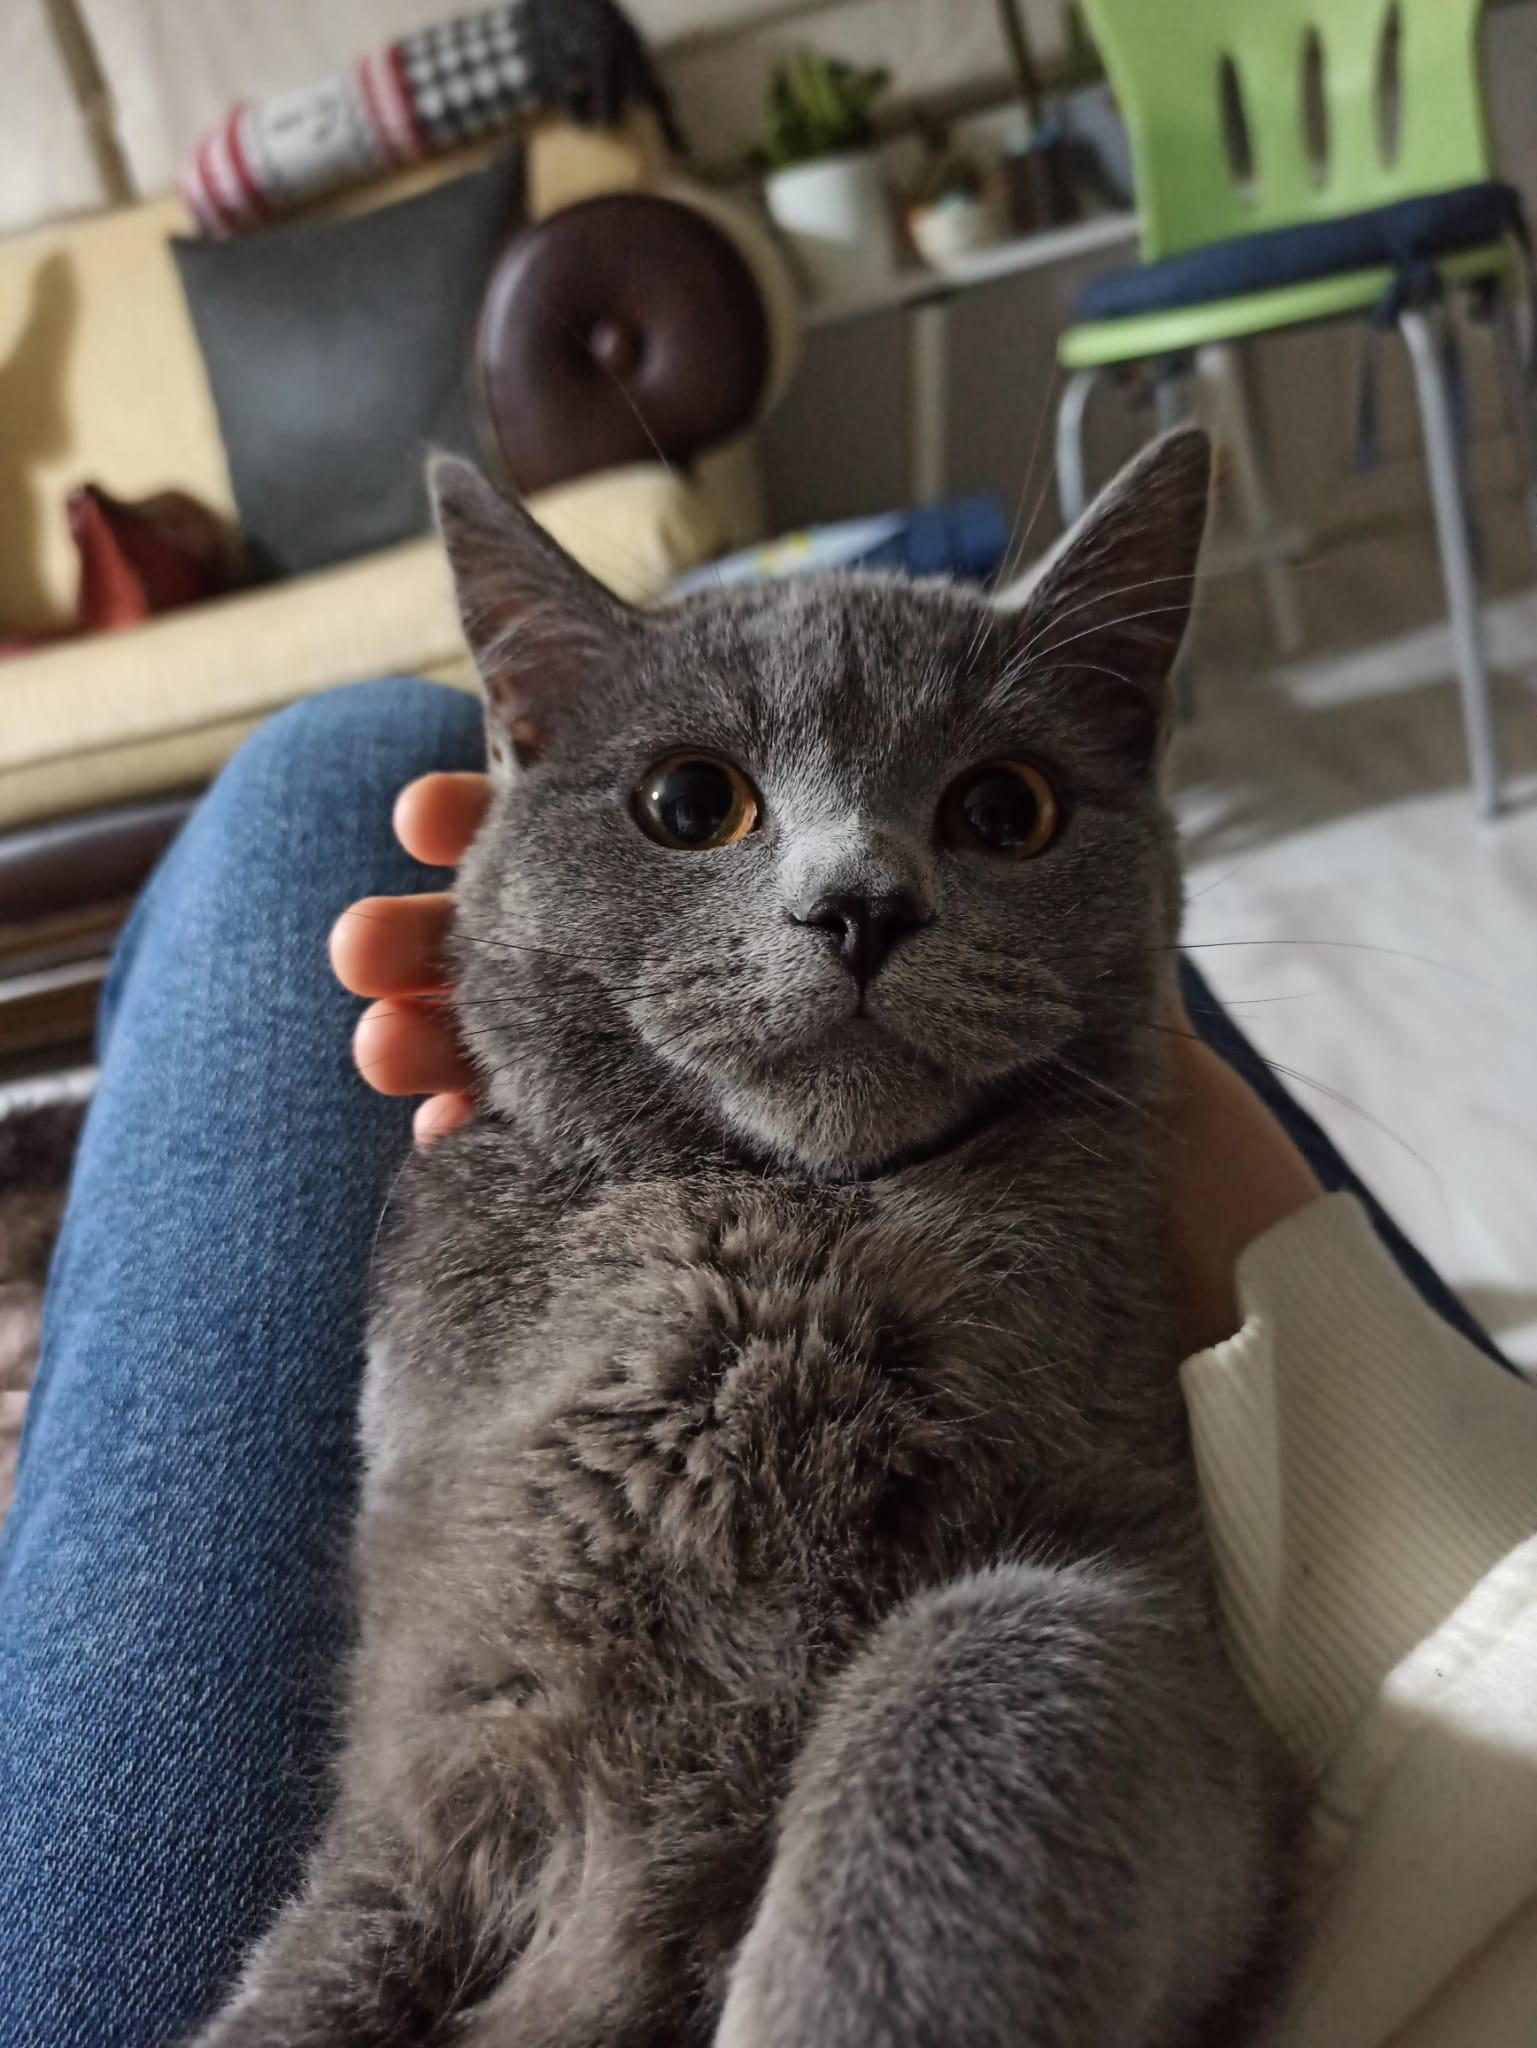kedo: (216, 433, 1282, 2048)
